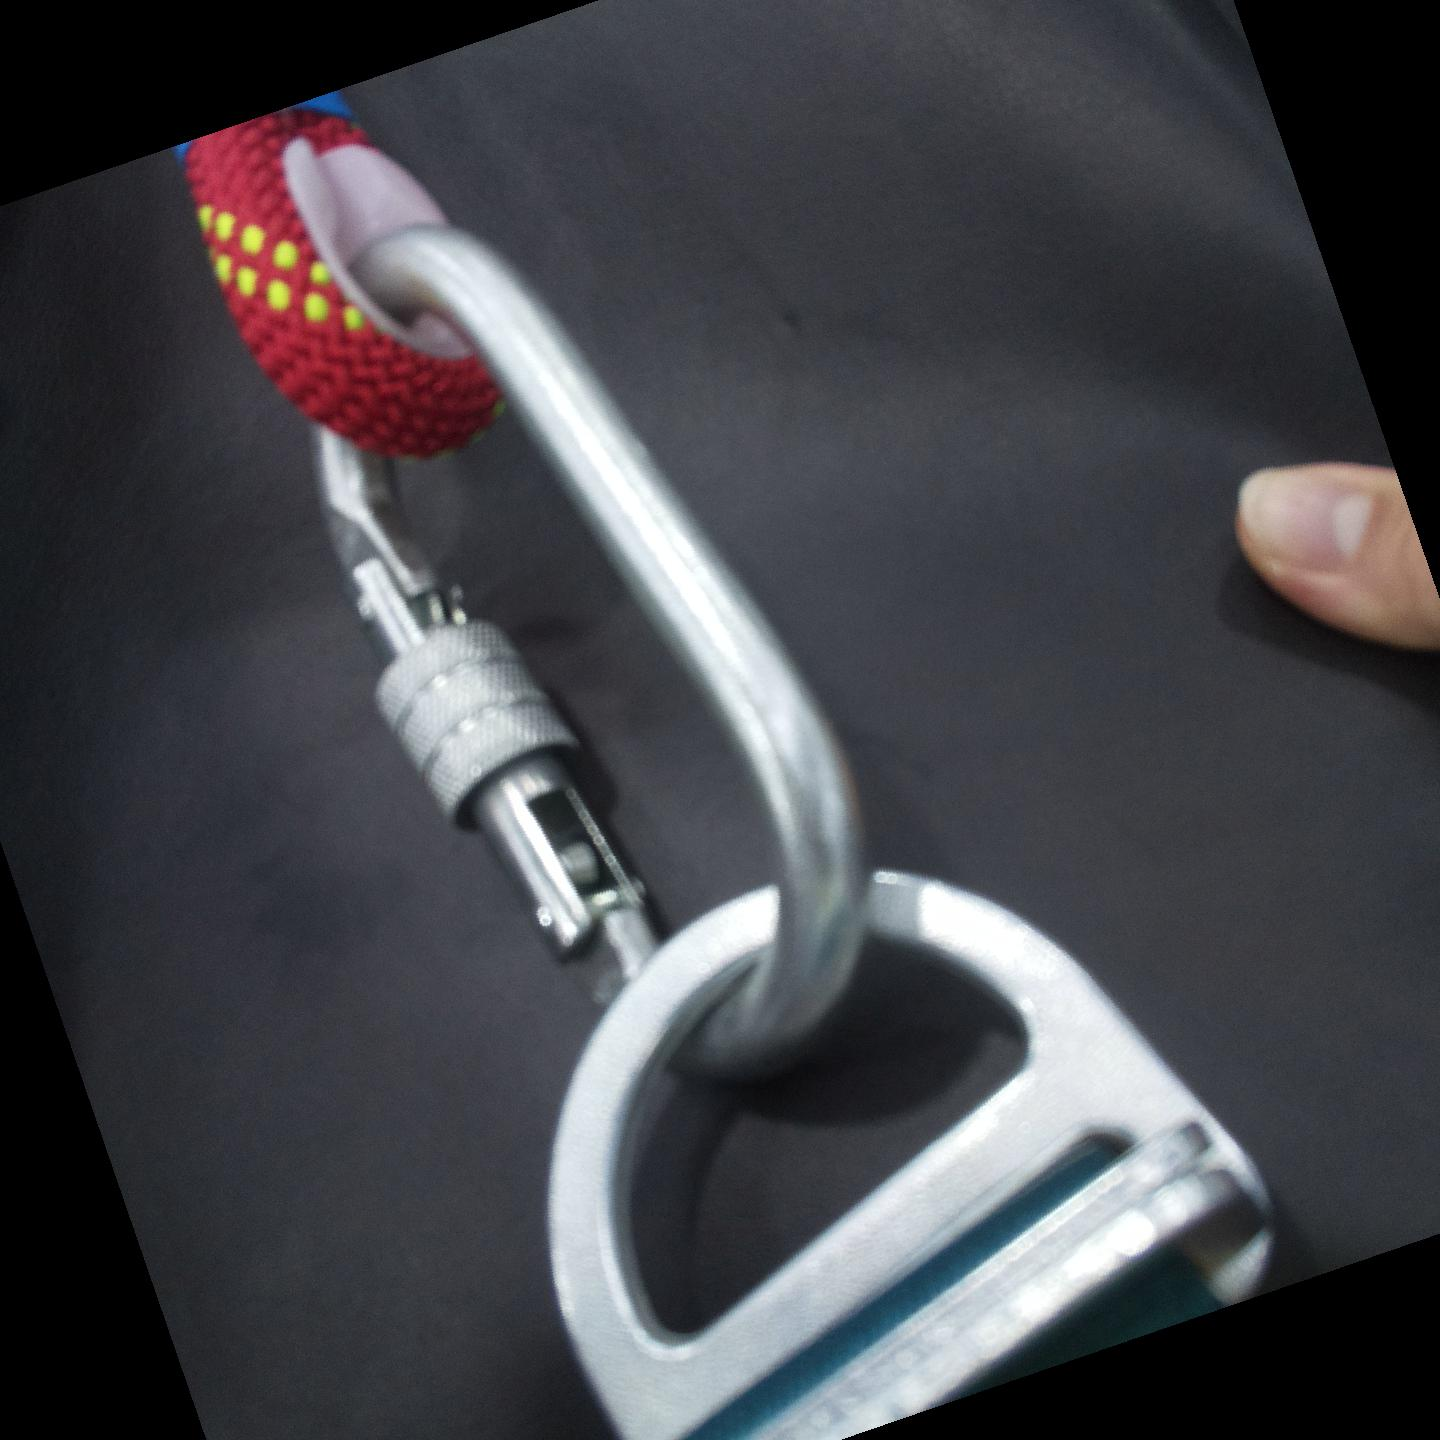SUCCESS: (345, 575, 1174, 1371)
